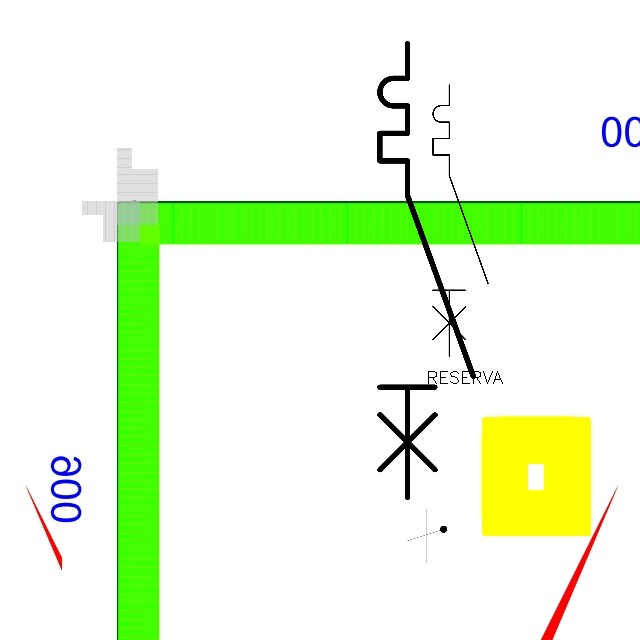interruptor_termomagnetico: (368, 32, 485, 509), (426, 78, 495, 363)
